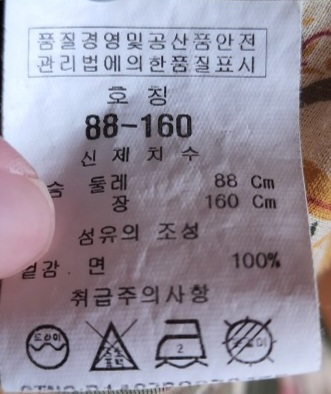KR_dry_clean: (23, 324, 73, 372)
KR_hang_dry_in_shade: (221, 314, 277, 366)
KR_no_chlorine_bleach: (86, 318, 136, 374)
